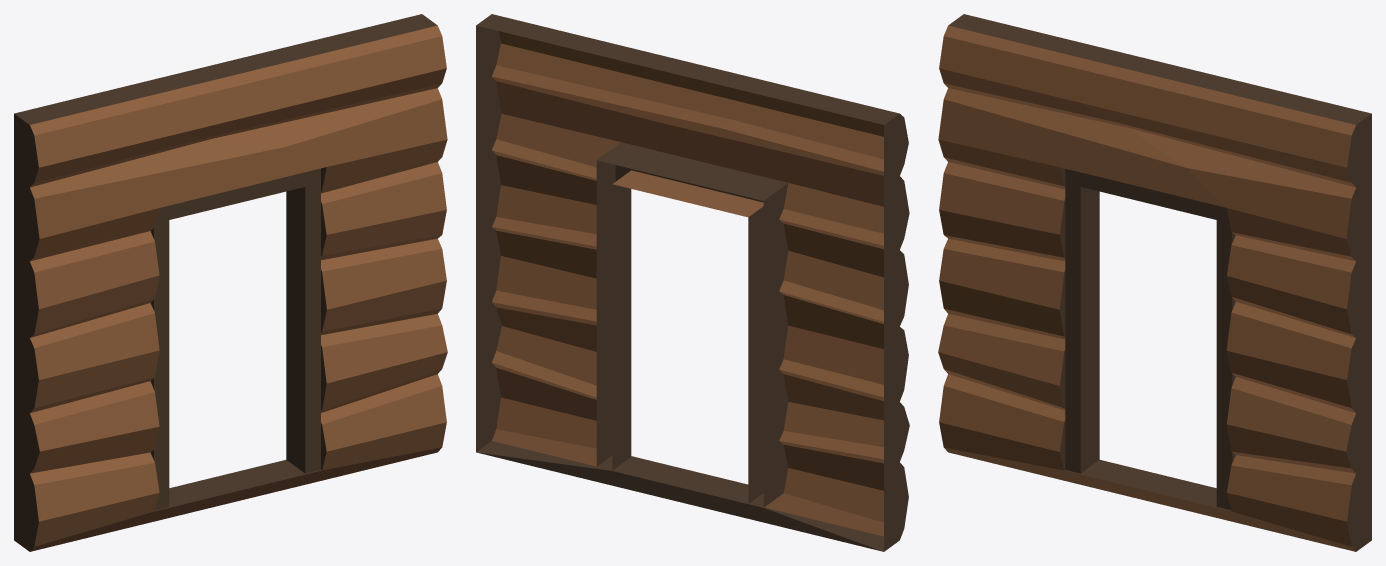
File: wall-wood-door-horizontal-3x3m.fbx
The picture shows the model from 3 angles, left to right: view 1: azimuth 30°, elevation 25°; view 2: azimuth 150°, elevation 25°; view 3: azimuth 330°, elevation 25°; orthographic projection.
Parts seen in each view (by area): view 1: wall-wood-door-horizontal-3x3m; view 2: wall-wood-door-horizontal-3x3m; view 3: wall-wood-door-horizontal-3x3m.
Boxes of the visible parts, left/top/right/bottom form: wall-wood-door-horizontal-3x3m: left=14, top=14, right=447, bottom=551; wall-wood-door-horizontal-3x3m: left=476, top=14, right=909, bottom=551; wall-wood-door-horizontal-3x3m: left=938, top=14, right=1371, bottom=551.
Size of the model in its own units: 3 by 3 by 0.3281.
